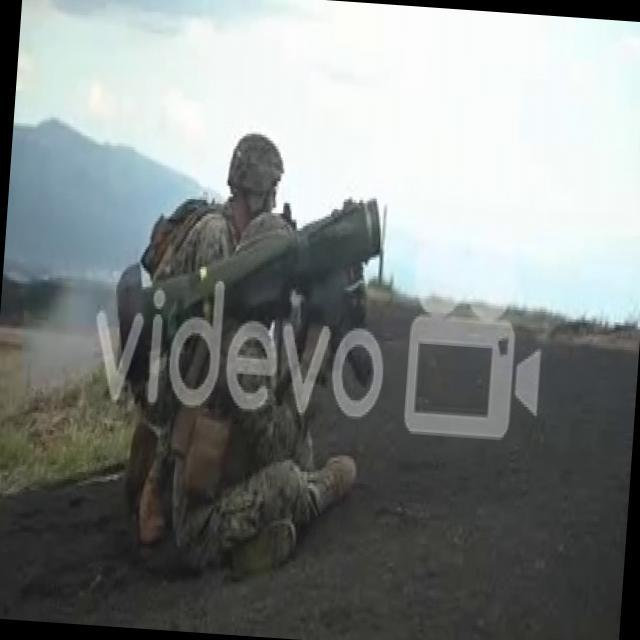rocket: (116, 177, 379, 402)
